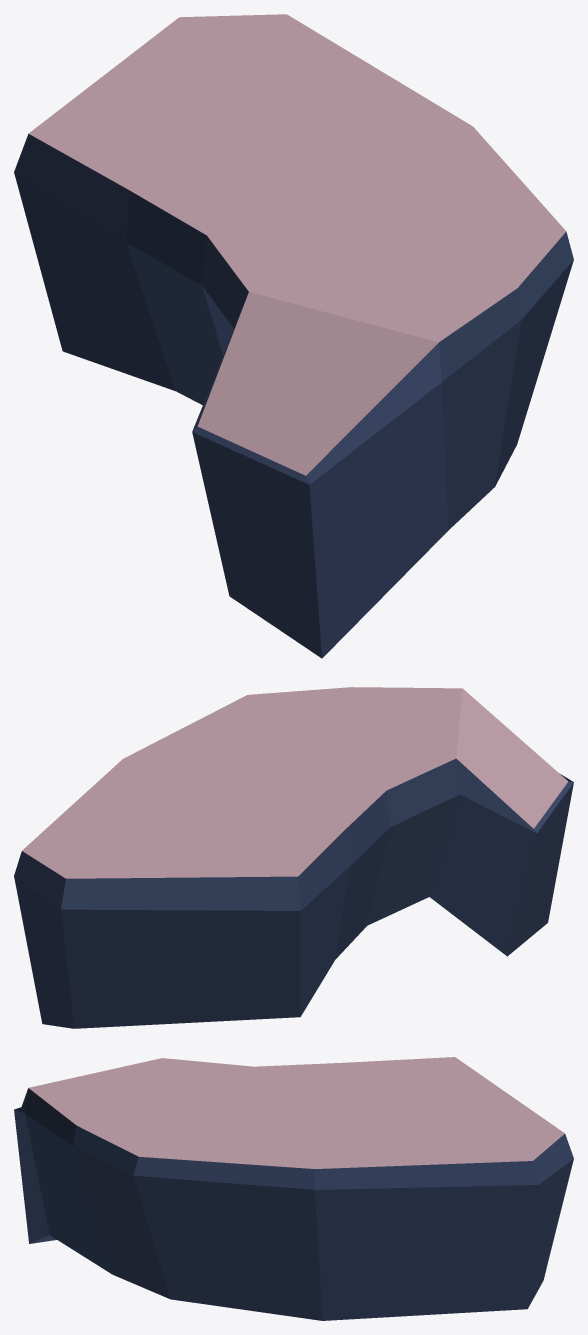
The model's file is Land_03_low.fbx.
3 views of the same model, one above another, from view 1: azimuth 30°, elevation 25°; view 2: azimuth 150°, elevation 25°; view 3: azimuth 270°, elevation 25° (orthographic). The views are drawn at different scales.
Parts seen in each view (by area): view 1: Land_03_Low; view 2: Land_03_Low; view 3: Land_03_Low.
Boxes of the visible parts, <box> form: Land_03_Low: <box>14,14,573,658</box>; Land_03_Low: <box>14,687,573,1028</box>; Land_03_Low: <box>14,1057,573,1320</box>.
Size of the model in its own units: 1223 by 785 by 2049.
